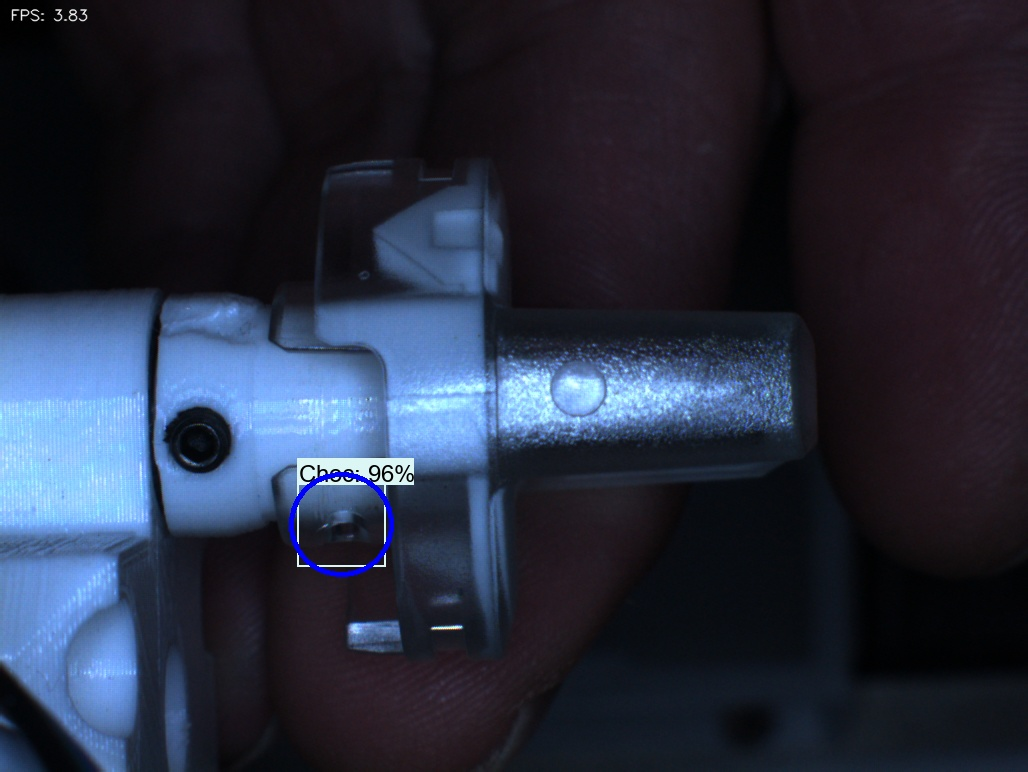DentOk: (347, 198, 414, 291)
